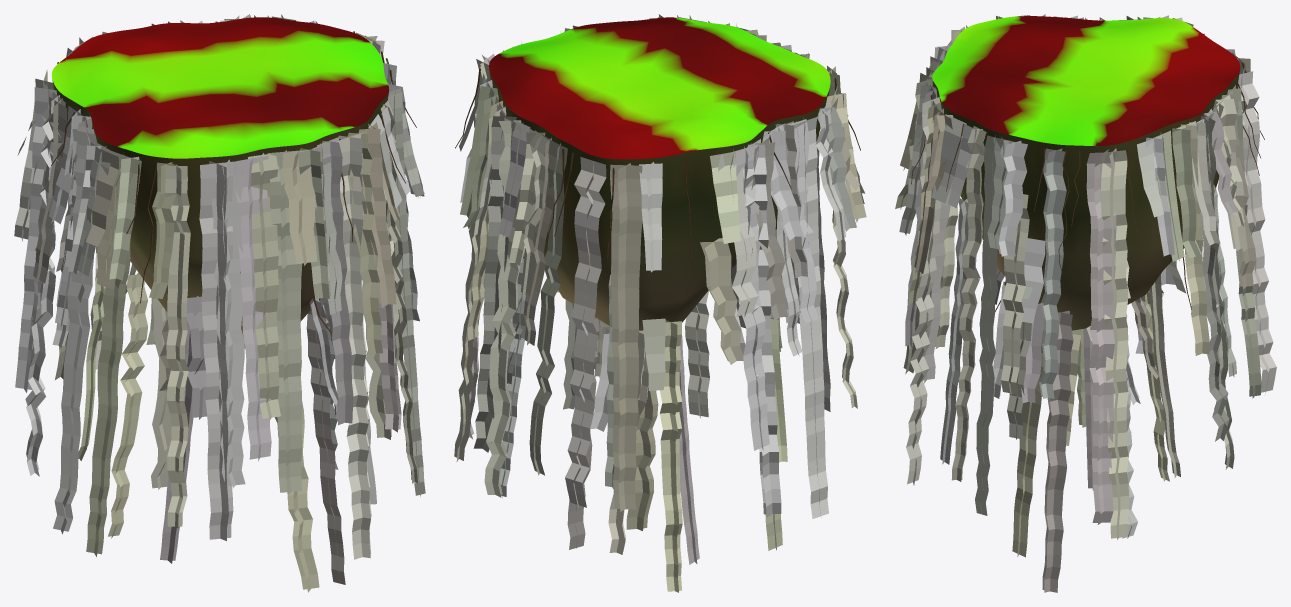
The model's file is SM_H05_Floater03.fbx.
3 renders of one model, left to right at view 1: azimuth 30°, elevation 25°; view 2: azimuth 150°, elevation 25°; view 3: azimuth 270°, elevation 25°, orthographic. The views are drawn at different scales.
Visible parts, largest first — view 1: SM_H05_Floater03_Ivy, SM_H05_Floater03; view 2: SM_H05_Floater03_Ivy, SM_H05_Floater03; view 3: SM_H05_Floater03_Ivy, SM_H05_Floater03.
Boxes of the visible parts, x1=… form: SM_H05_Floater03_Ivy: x1=14, y1=14, x2=425, y2=592; SM_H05_Floater03: x1=51, y1=17, x2=388, y2=333; SM_H05_Floater03_Ivy: x1=454, y1=14, x2=866, y2=592; SM_H05_Floater03: x1=489, y1=17, x2=830, y2=330; SM_H05_Floater03_Ivy: x1=895, y1=14, x2=1276, y2=592; SM_H05_Floater03: x1=932, y1=16, x2=1240, y2=330.
Bounding box in the file's own units: 25.83 × 35.55 × 25.56.
